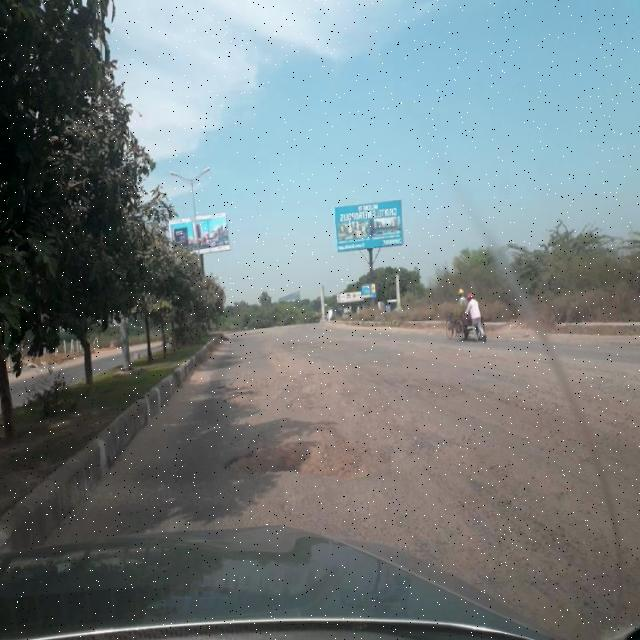D40: (206, 414, 398, 490), (476, 371, 558, 414), (393, 363, 462, 406), (217, 364, 271, 406)
